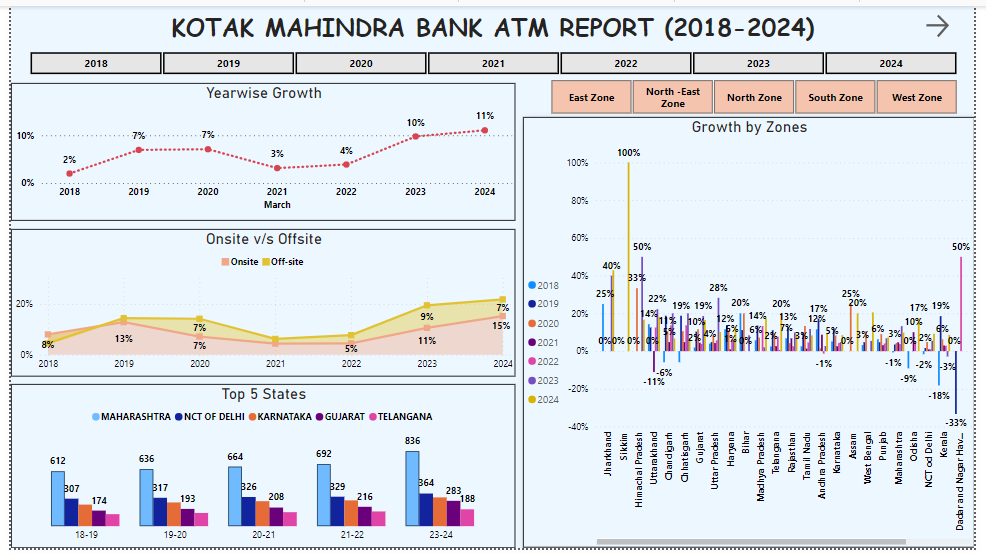

What the dashboard file says about the page in this screenshot:
{"tool":"powerbi","page":{"name":"Page 1","canvas":[1280,720],"ordinal":0},"visuals":[{"type":"lineChart","title":"Yearwise Growth","fields":{"Y":["Sum(Kotak ATM 18-24.% Increment)"],"Category":["Kotak ATM 18-24.Month","Kotak ATM 18-24.Year"]},"box":[0,102.4,670.2,182.9],"z":0},{"type":"clusteredColumnChart","title":"Top 5 States","fields":{"Category":["Kotak ATM 18-24.Year_01"],"Y":["Sum(Kotak ATM 18-24.MAHARASHTRA)","Sum(Kotak ATM 18-24.NCT OF DELHI)","Sum(Kotak ATM 18-24.KARNATAKA)","Sum(Kotak ATM 18-24.GUJARAT)","Sum(Kotak ATM 18-24.TELANGANA)"]},"box":[0,502.1,669.5,217.9],"z":1000},{"type":"stackedAreaChart","title":"Onsite v/s Offsite","fields":{"Category":["Kotak ATM 18-24.Year_03"],"Y":["Sum(Kotak ATM 18-24.% On-site)","Sum(Kotak ATM 18-24.% Off-site)"]},"box":[0,295.6,670.2,196.1],"z":2000},{"type":"clusteredColumnChart","title":"Growth by Zones","fields":{"Category":["Kotak ATM 18-24.State"],"Y":["Sum(Kotak ATM 18-24.%)"],"Series":["Kotak ATM 18-24.Year_04"]},"box":[680.5,147.8,600,572.2],"z":3000},{"type":"slicer","fields":{"Values":["Kotak ATM 18-24.North Zone"]},"box":[692.1,91.7,588.5,55.8],"z":4000},{"type":"slicer","fields":{"Values":["Kotak ATM 18-24.Year_04"]},"box":[0,54.5,1280,37.2],"z":5000},{"type":"textbox","box":[0,0,1280,54.5],"z":6000},{"type":"actionButton","box":[1210,7.1,70,40],"z":7000}]}

Visuals, with their boxes in screenshot pixels (x1, y1, x2, y2), scaled from the page's 1280x720 canvas onto the 986x555 screenshot:
"Yearwise Growth" lineChart: 0 79 516 220
"Top 5 States" clusteredColumnChart: 0 387 516 554
"Onsite v/s Offsite" stackedAreaChart: 0 228 516 379
"Growth by Zones" clusteredColumnChart: 524 114 985 554
slicer - Kotak ATM 18-24.North Zone: 533 71 985 114
slicer - Kotak ATM 18-24.Year_04: 0 42 985 71
textbox: 0 0 985 42
actionButton: 932 5 985 36
